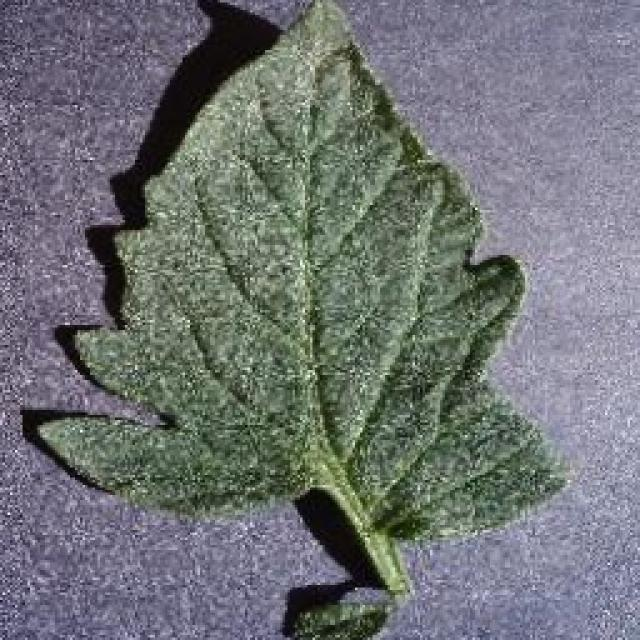Healthy: (22, 0, 588, 640)
